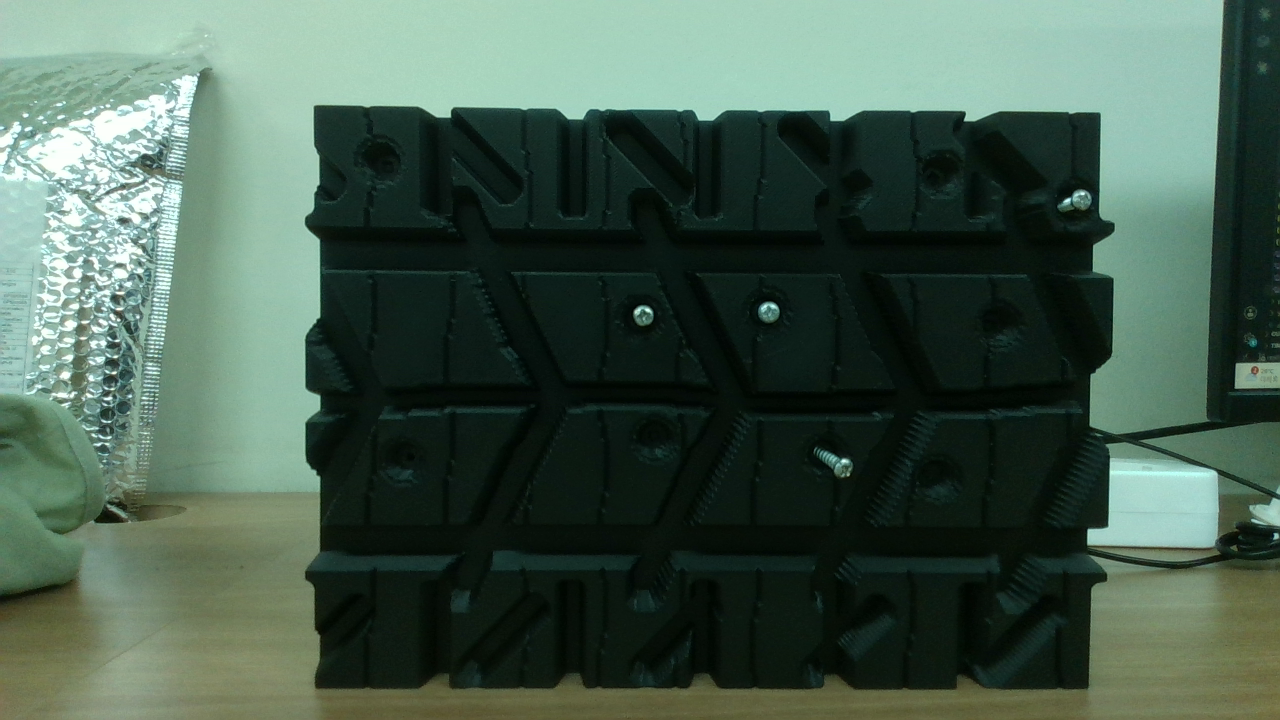screw_head: (629, 300, 655, 326), (834, 454, 860, 480), (1075, 185, 1099, 209), (760, 300, 782, 322)
stud_hole: (354, 136, 410, 192), (915, 151, 965, 201), (976, 302, 1020, 346), (911, 451, 955, 495), (631, 411, 675, 455), (388, 437, 430, 479)
